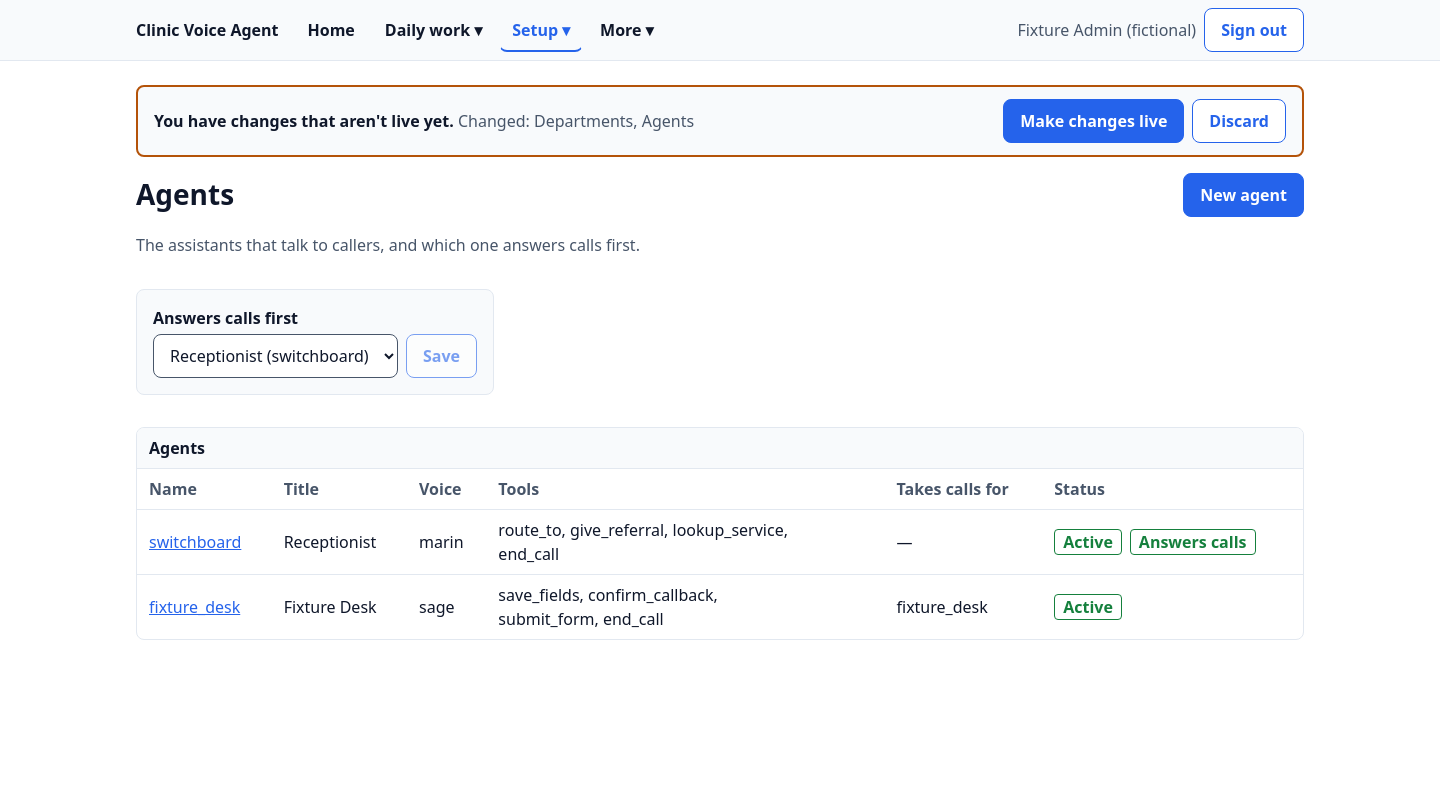
Scenario: T-FE: agents › lists agents with the entry agent and opens the new-agent editor
Expected: the text "Fixture Desk" is shown, top-left (272, 574), bottom-right (407, 639)
Expected: the dropdown with test id "agents-entry-select" shows "Receptionist (switchboard)", top-left (153, 334), bottom-right (398, 378)
Click the button with test id "agents-new": (1244, 195) top-left (1183, 173), bottom-right (1304, 217)
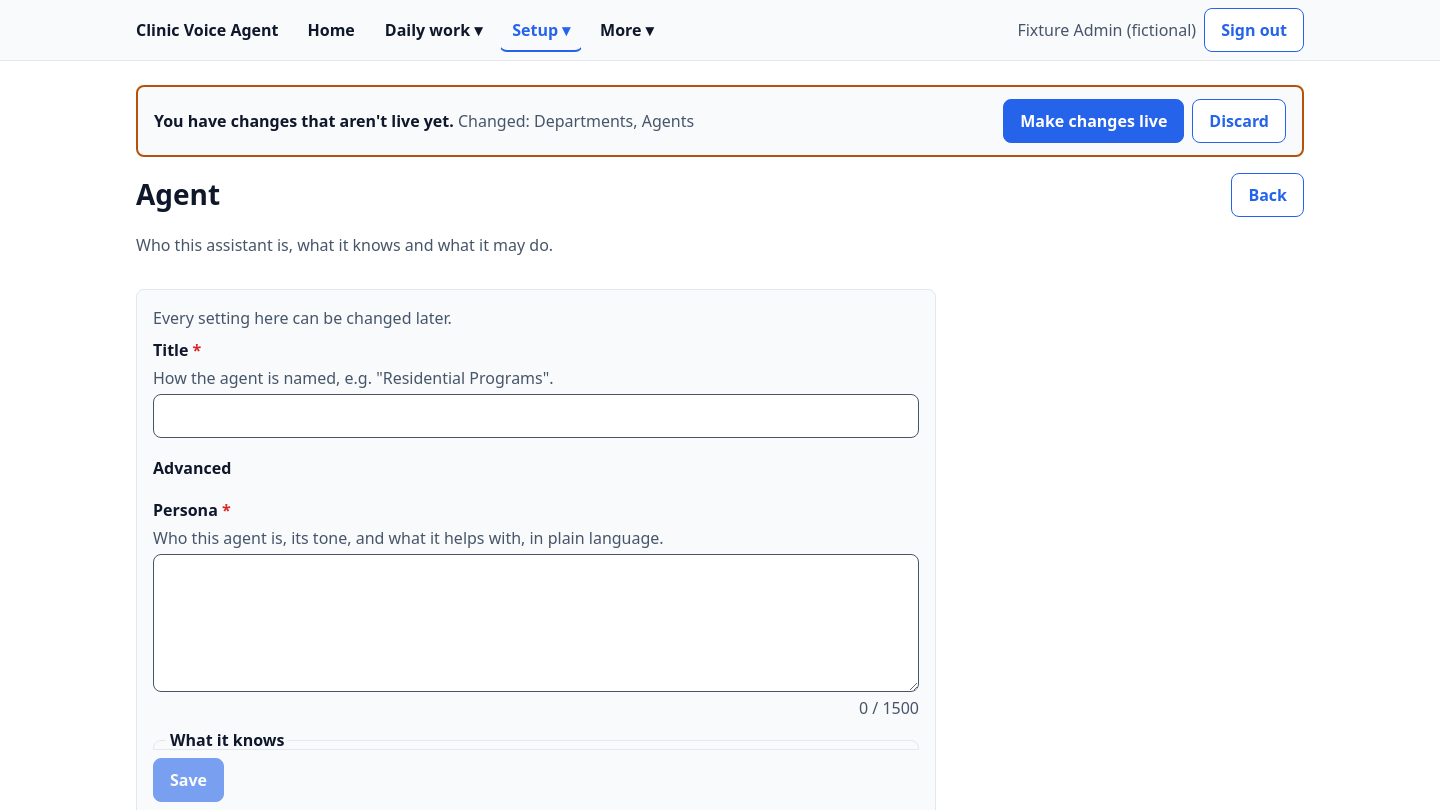
Expected: the element with test id "agent-name" is shown, top-left (153, 457), bottom-right (231, 479)
